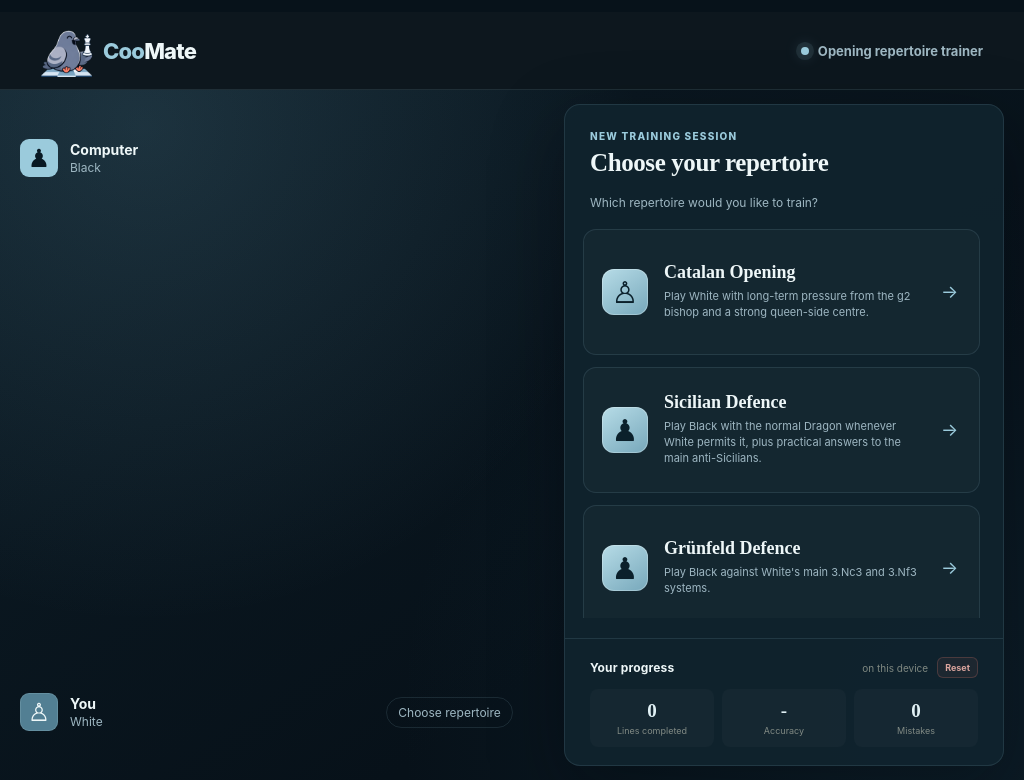
Test: OpeningTrainer board interaction › keeps the exam and random launch cards title-only
The image size is (1024, 780).
Click the button "Catalan Opening": point(782, 292) 583,229 -> 980,355
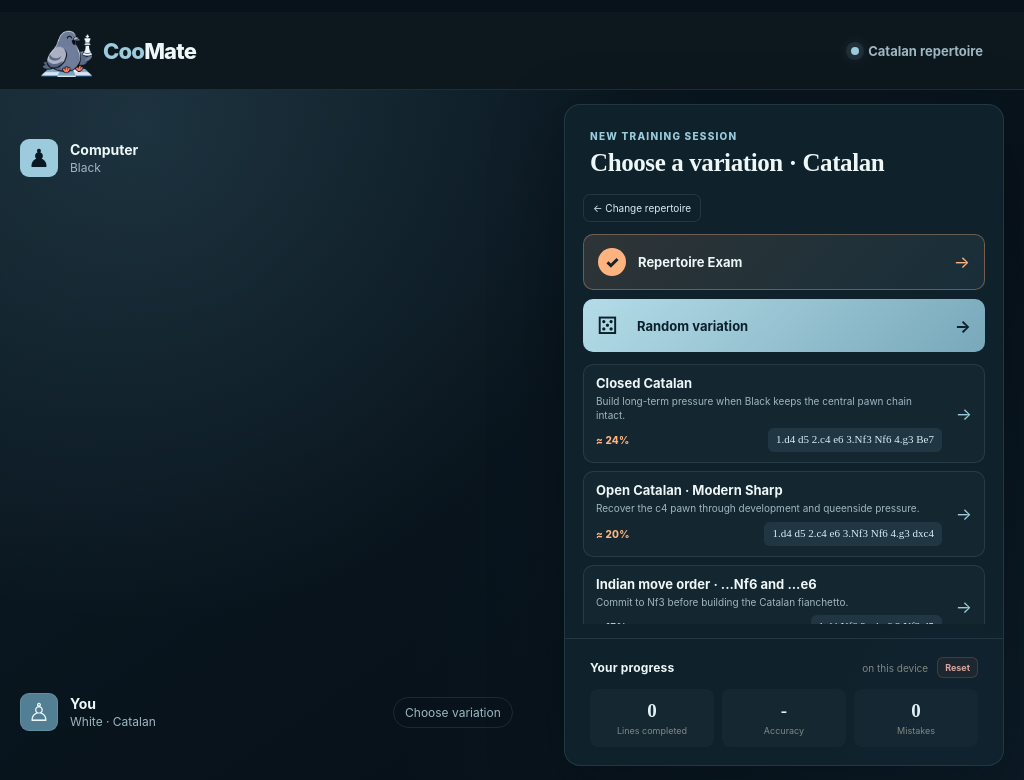
Expected: the button "✓ Repertoire Exam →" is shown, 583,234 -> 985,290
Expected: the button "⚄ Random variation →" is shown, 583,299 -> 985,352
